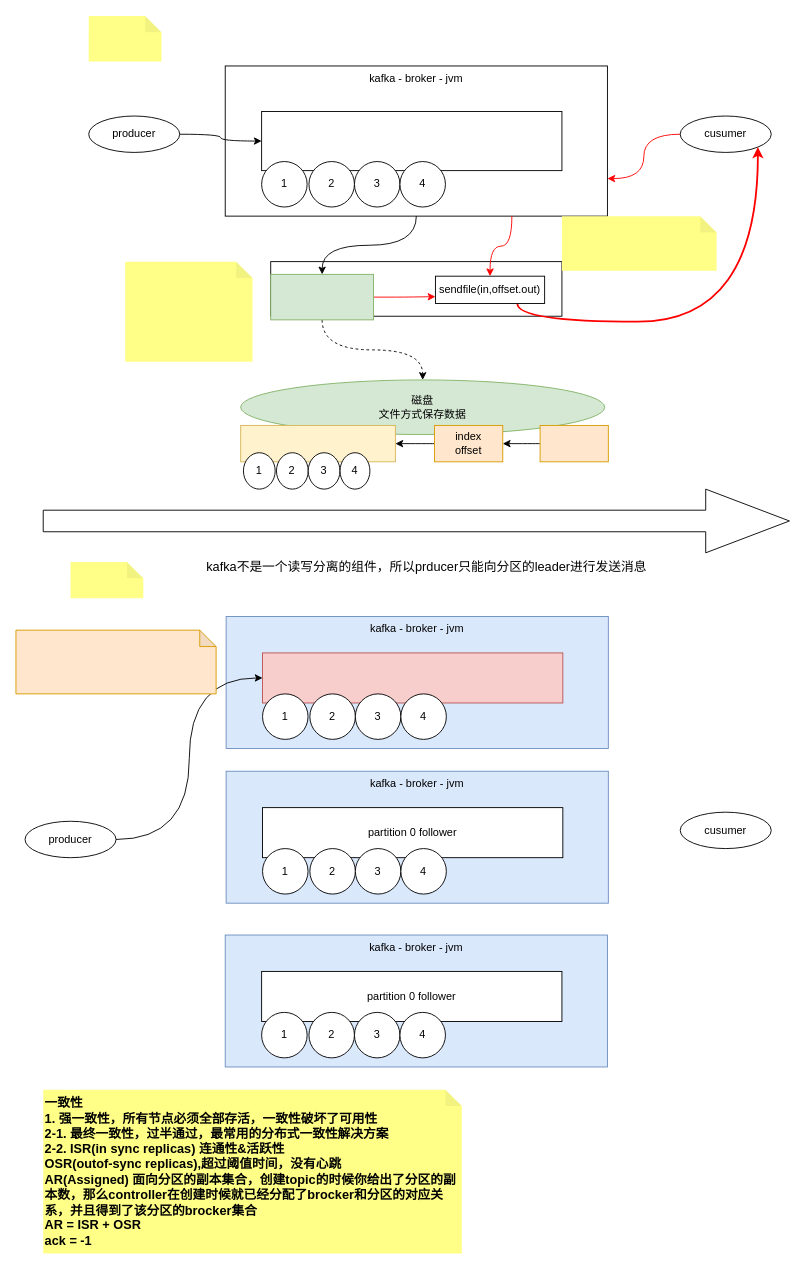
The diagram is 805 pixels wide and 1269 high, and some of its shapes have lost their labels. The box of each missing label's shape, as (x1, y1, x2, y2) in pixels:
ack 1 默认值，只需要leader写入pagecache就可以 -1 最严苛 所有的ISR副本都要同步，一致: (15, 629, 216, 694)
data: (240, 425, 395, 462)
index timestamp: (539, 425, 608, 462)
kernel: (270, 261, 562, 316)
pagecache: (270, 273, 374, 320)
partition 0: (261, 111, 562, 171)
partition 0 leader: (262, 652, 563, 703)
写磁盘就会有个粒度，写的粒度越小，速度越慢 trade off 我们应该把单机的持久化可靠性转向集群多机方式: (125, 261, 252, 361)
分区可靠性，要解决一个问题，伴随着引入更多的问题: (42, 488, 789, 553)
分布式集群: (70, 561, 143, 598)
单机: (88, 15, 161, 61)
注意零拷贝不经过用户空间，但是必须保证pagecache里面有，没有的话，需要进行构建: (561, 216, 716, 270)
